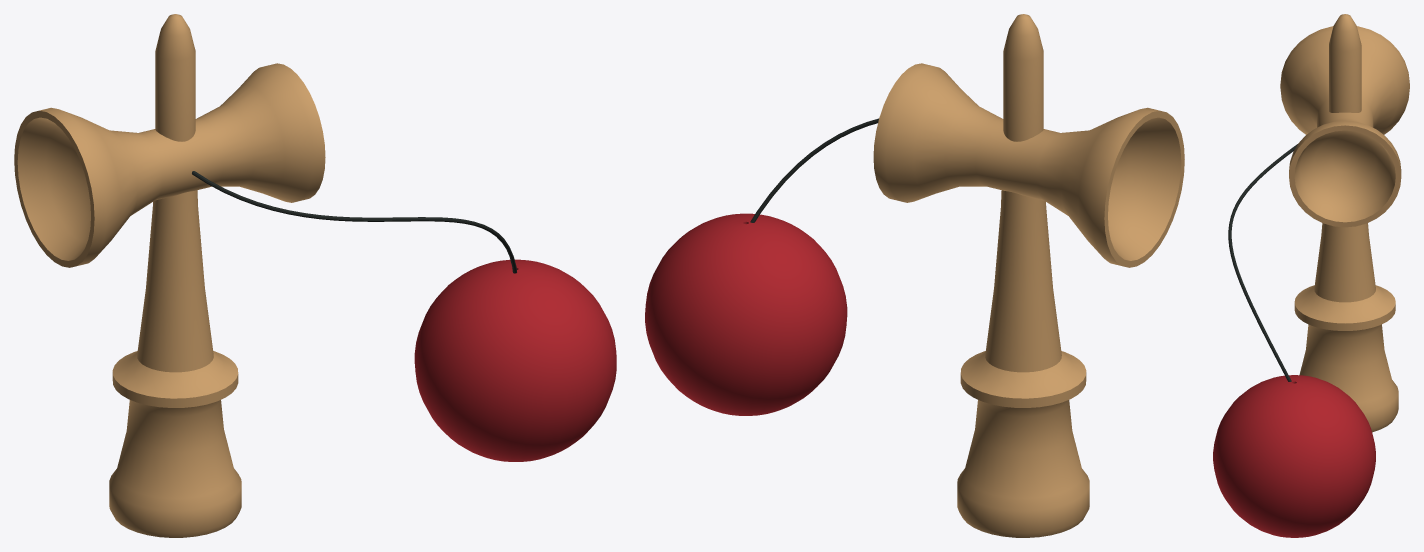
The picture shows the model from 3 angles, left to right: view 1: azimuth 30°, elevation 25°; view 2: azimuth 150°, elevation 25°; view 3: azimuth 270°, elevation 25°; orthographic projection. The views are drawn at different scales.
Visible parts, largest first — view 1: Ken_body_base_cup_and_spike, Sarado_side_cups, Tama_ball_with_through_bore, Illustrative_flexible_cord; view 2: Ken_body_base_cup_and_spike, Sarado_side_cups, Tama_ball_with_through_bore, Illustrative_flexible_cord; view 3: Tama_ball_with_through_bore, Sarado_side_cups, Ken_body_base_cup_and_spike, Illustrative_flexible_cord.
Boxes of the visible parts, x1,y1,x2,y2 form: Ken_body_base_cup_and_spike: (109, 14, 241, 537); Sarado_side_cups: (14, 63, 325, 267); Tama_ball_with_through_bore: (414, 259, 616, 461); Illustrative_flexible_cord: (192, 171, 516, 273); Ken_body_base_cup_and_spike: (957, 14, 1089, 537); Sarado_side_cups: (873, 63, 1184, 267); Tama_ball_with_through_bore: (645, 213, 847, 415); Illustrative_flexible_cord: (750, 118, 878, 222); Tama_ball_with_through_bore: (1213, 375, 1375, 537); Sarado_side_cups: (1280, 26, 1409, 227); Ken_body_base_cup_and_spike: (1294, 14, 1398, 432); Illustrative_flexible_cord: (1228, 144, 1297, 381).
Bounding box in the file's own units: 0.171 × 0.157 × 0.07.
